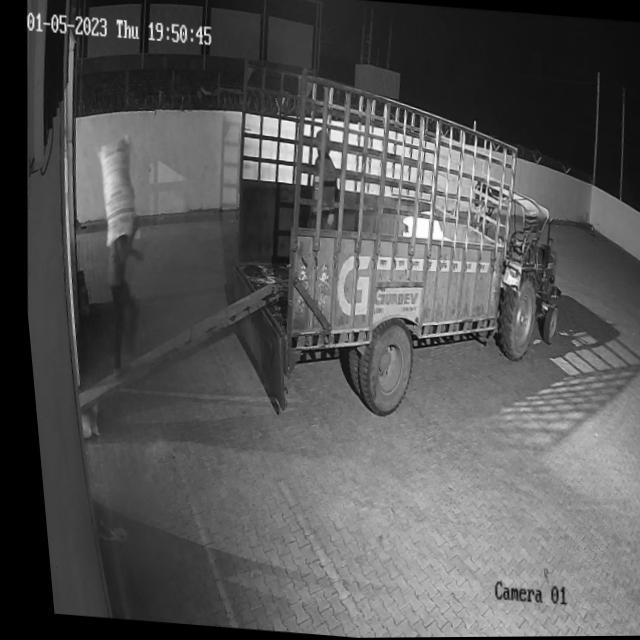sack: (85, 133, 146, 248)
